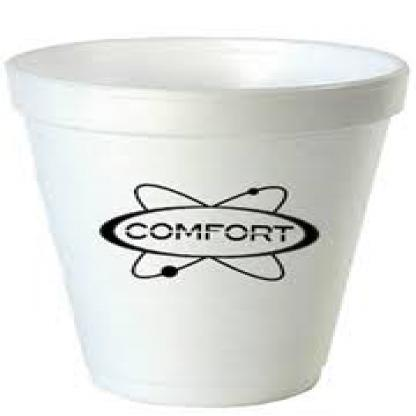paper: (5, 34, 406, 406)
